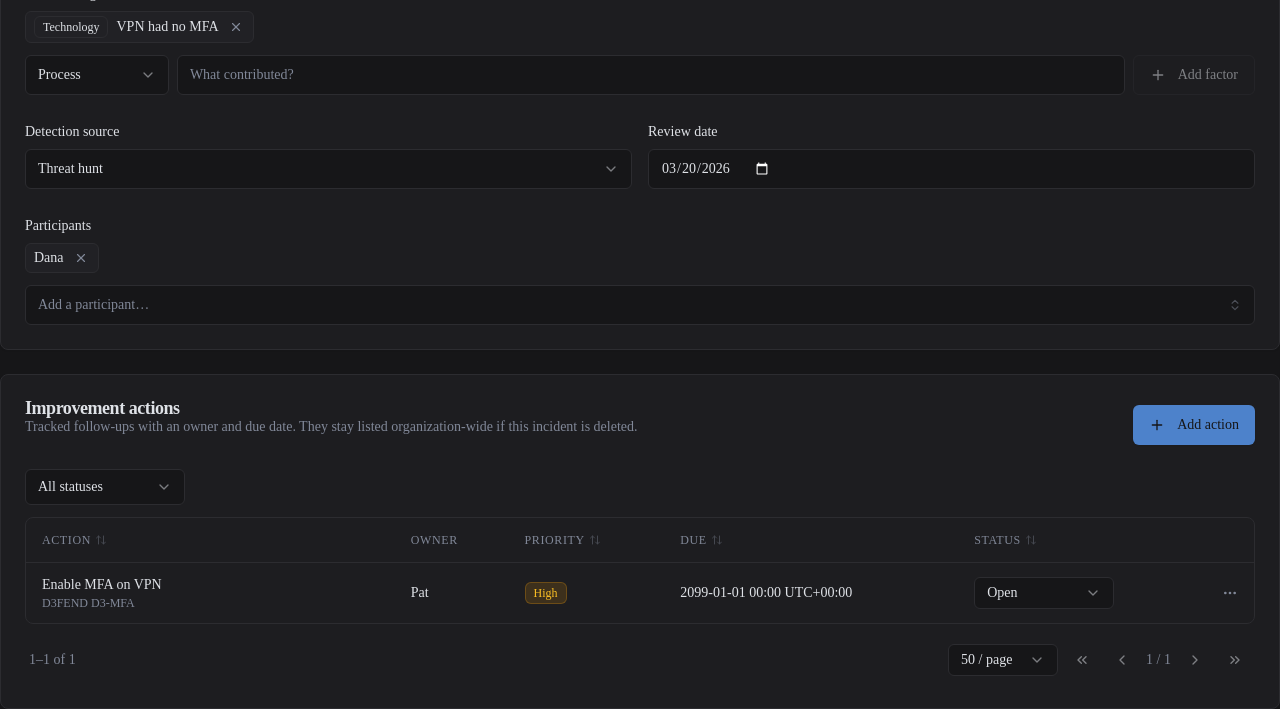
Test case: PostIncidentReviewTab › improvement actions › lets the responder tier change any action and add new ones
The image size is (1280, 709).
(page scrolled)
Expected: the dropdown named "Status of Enable MFA on VPN" is shown, [974, 576, 1114, 608]
Click the button "Add action" at (1194, 425), box [1133, 405, 1255, 445]
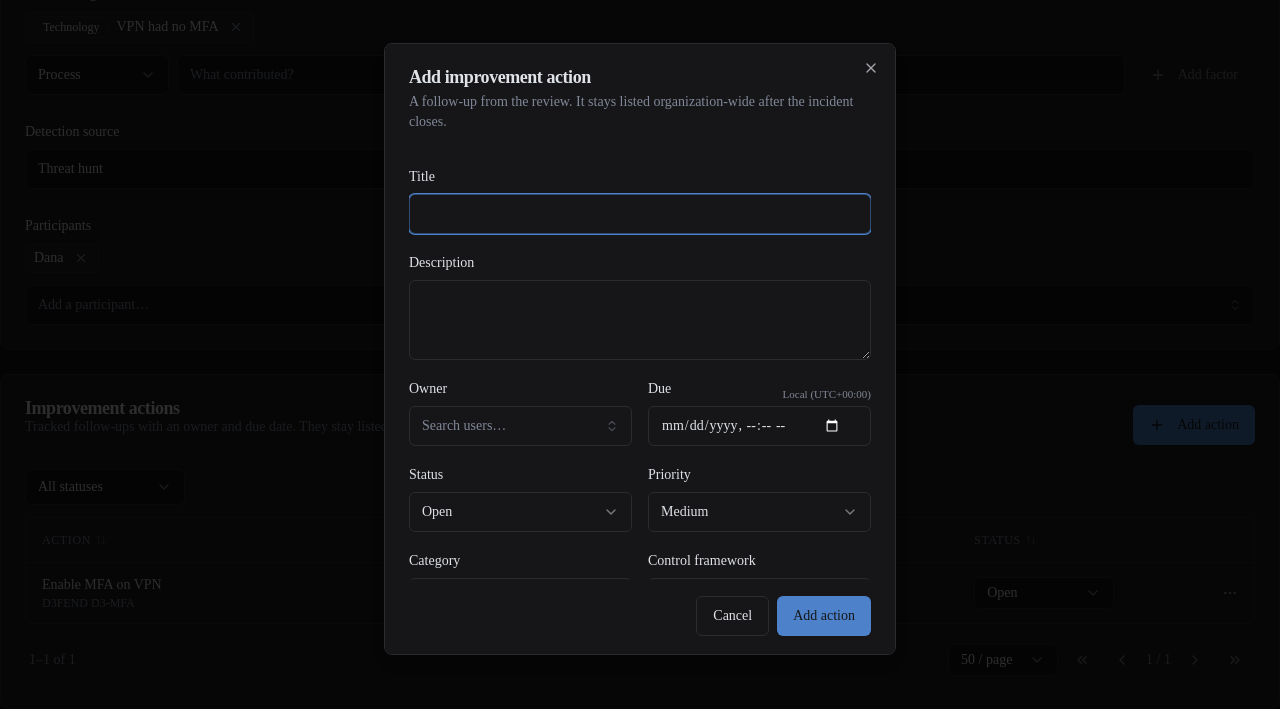
Now the dialog "Add improvement action" is shown, box [384, 43, 896, 655]
